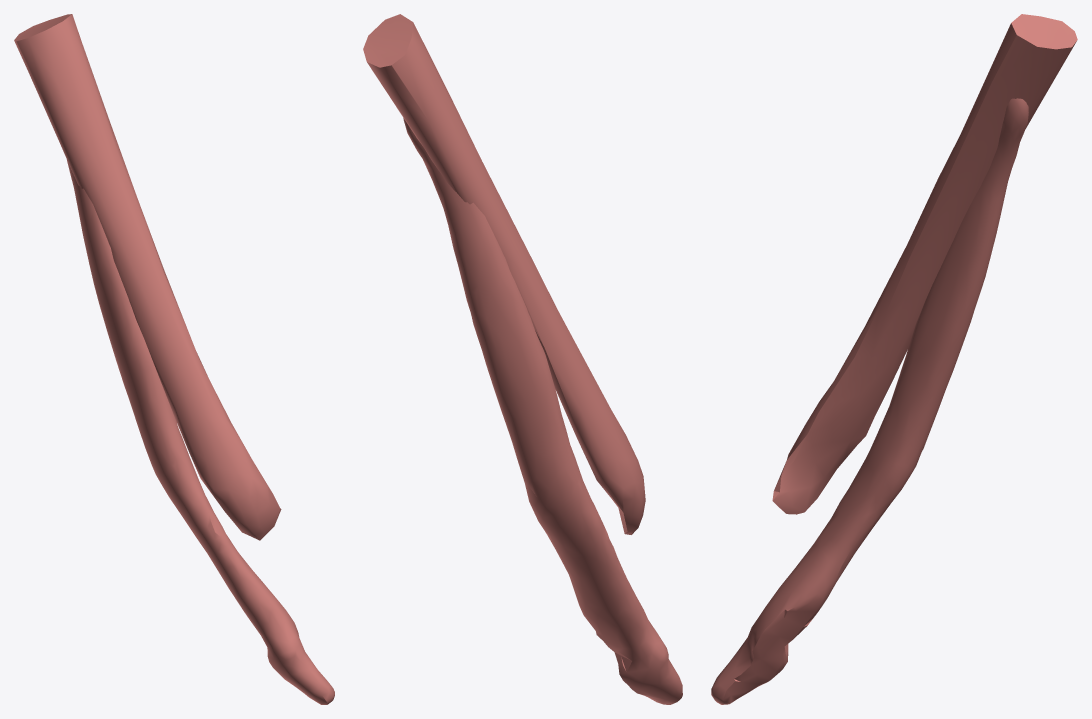
The model's file is fma39565_mm1958.glb.
3 renders of one model, left to right at view 1: azimuth 90°, elevation 25°; view 2: azimuth 150°, elevation 25°; view 3: azimuth 270°, elevation 25°, orthographic. The views are drawn at different scales.
Visible parts, largest first — view 1: FMA39565_MM1958; view 2: FMA39565_MM1958; view 3: FMA39565_MM1958.
Boxes of the visible parts, box(x1,y1,x2,y2) form: FMA39565_MM1958: box(14, 14, 334, 704); FMA39565_MM1958: box(363, 14, 682, 704); FMA39565_MM1958: box(711, 14, 1077, 704).
Bounding box in the file's own units: 0.011 × 0.0509 × 0.023.
